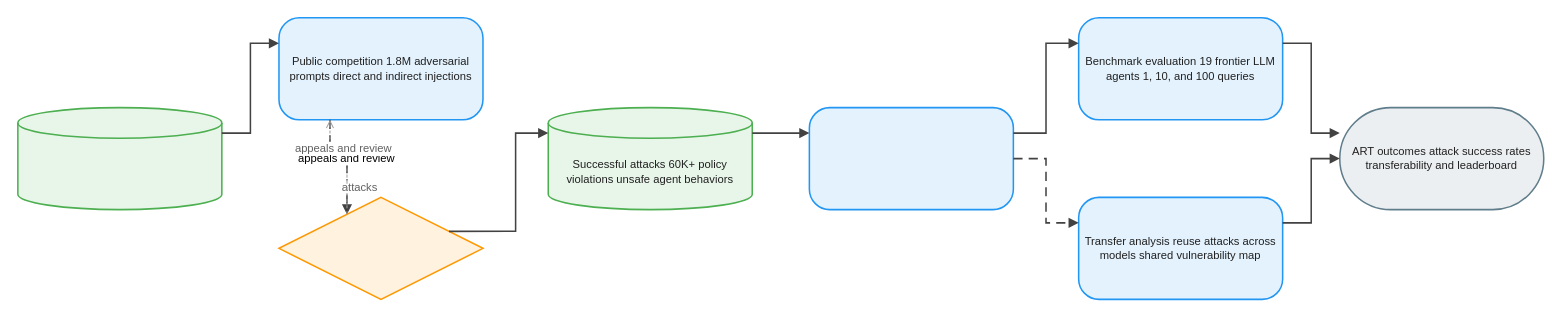
The diagram is 1563 pixels wide and 318 high, and some of its shapes have lost their labels. The centre of each missing label's shape, as x and y in pixels:
"Policy-violation judging automated criteria human appeal path" belongs at [380,248].
"Red-team challenge setup 44 realistic scenarios 22 frontier AI agents" belongs at [119,158].
"Refined ART subset high-quality prompt injections 4,700 selected attacks" belongs at [911,158].
